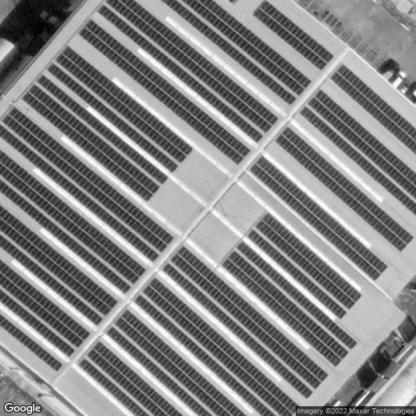solar-pv-panel: (0, 107, 175, 262), (98, 0, 277, 144), (163, 246, 329, 399), (78, 18, 250, 164), (133, 279, 299, 416), (0, 150, 146, 295), (48, 46, 193, 173), (24, 76, 167, 202), (276, 127, 415, 252), (222, 241, 358, 368), (251, 158, 390, 280), (162, 0, 313, 107), (107, 309, 249, 416), (0, 205, 117, 327), (303, 91, 416, 217), (246, 215, 362, 319), (0, 262, 90, 357), (76, 342, 183, 416), (332, 65, 416, 154), (253, 1, 335, 72), (0, 317, 62, 372)
